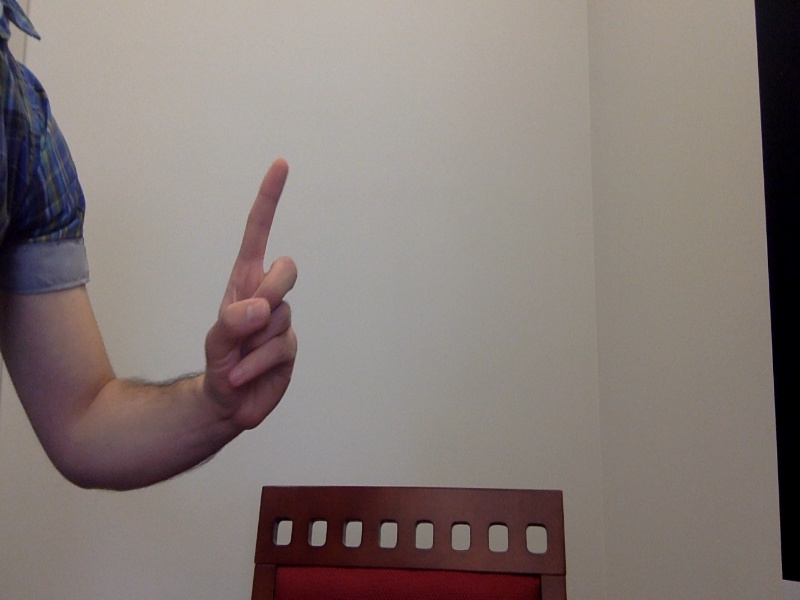1-hand: (203, 157, 302, 433)
